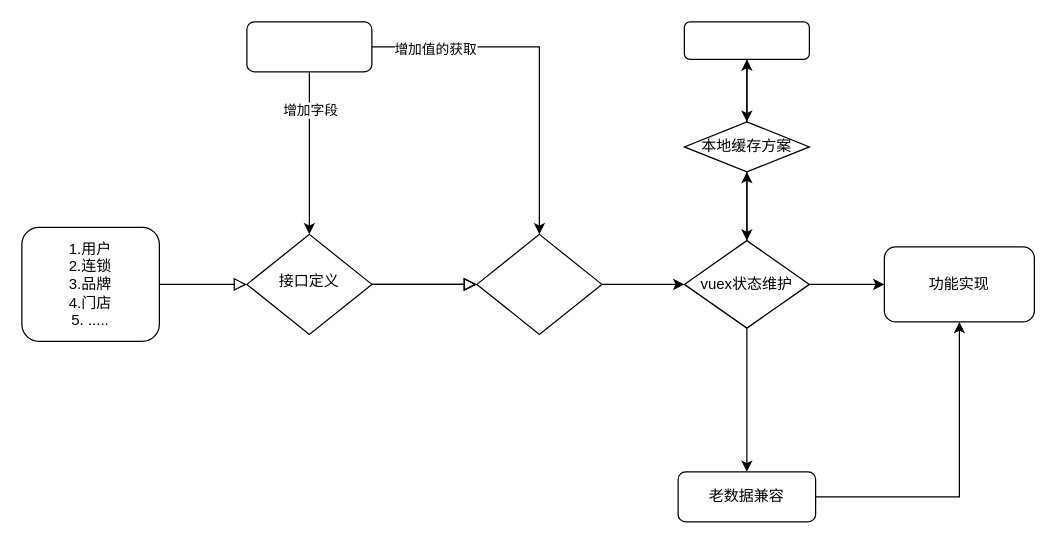
Image size: 1056x544. Some labels were removed from this diagram. The centre of each missing label's shape, as x and y in pixels:
数据逻辑处理: the point at 539,283
新功能: the point at 309,46
新窗口/页面刷新: the point at 746,40
